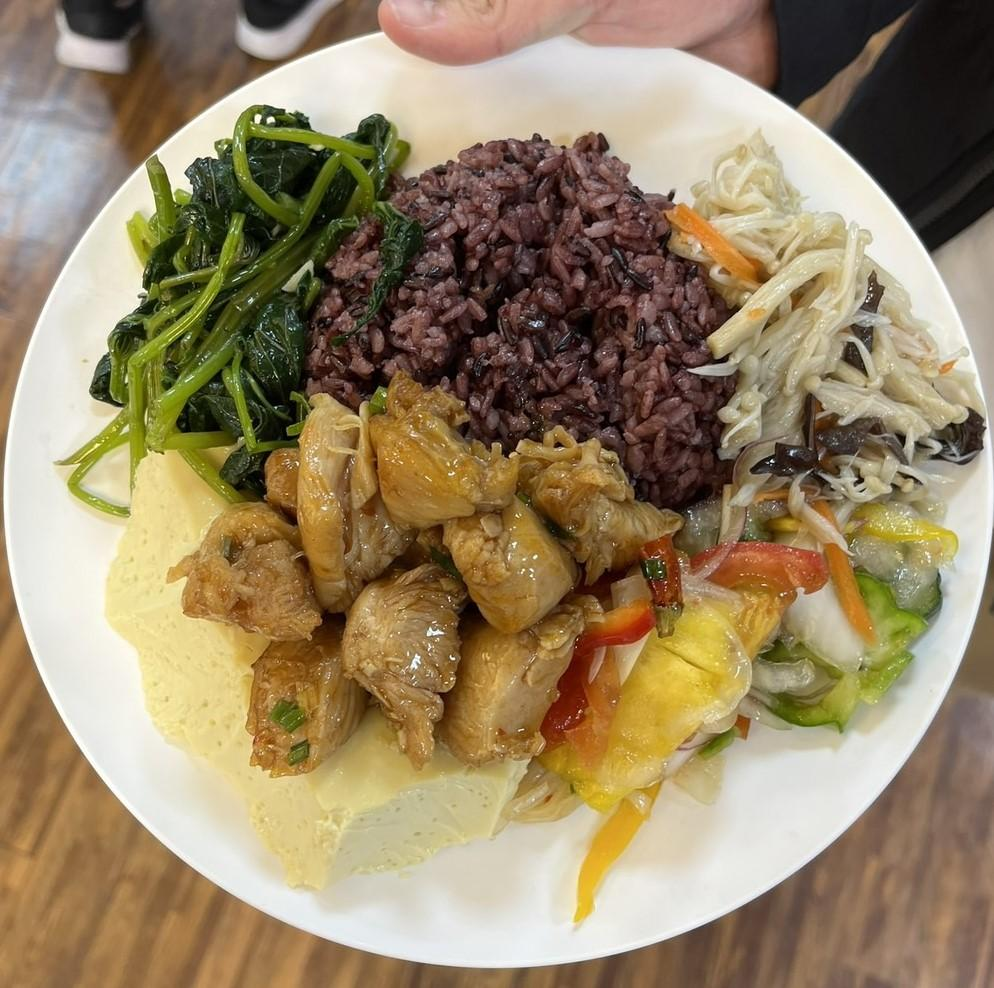big fried chicken leg: (22, 18, 994, 973)
braised fish: (310, 129, 742, 491)
braised fish fillet: (102, 454, 536, 901), (573, 480, 953, 886), (70, 104, 408, 494), (694, 136, 990, 514)
braised pork: (185, 408, 686, 781)
